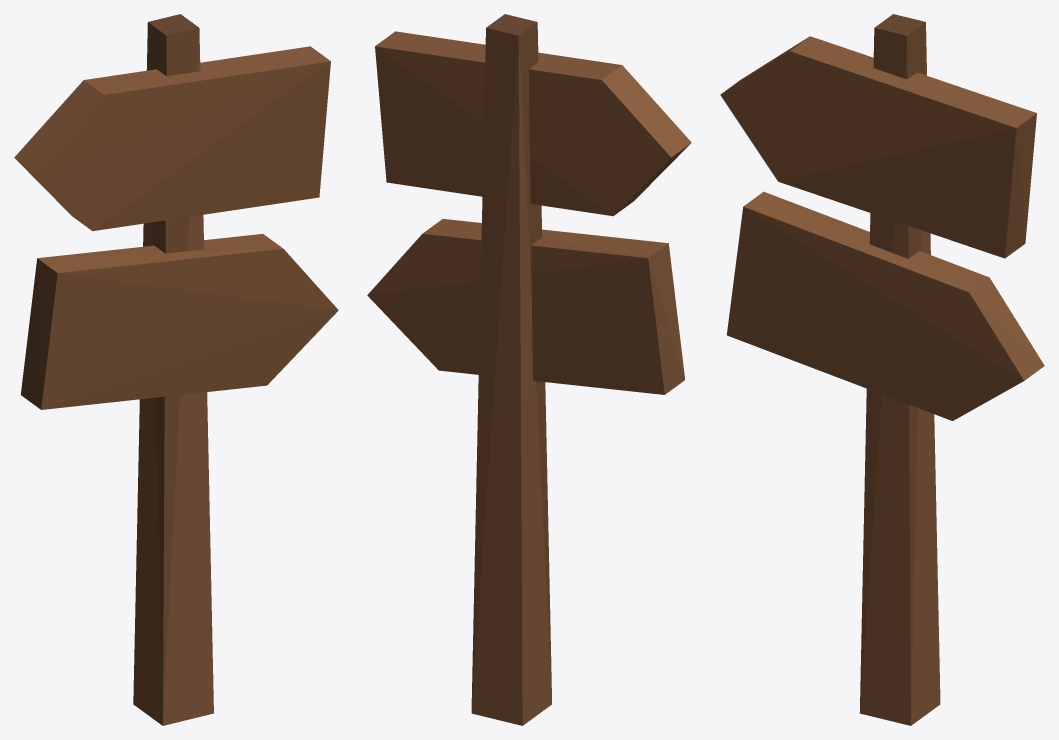
File: kenney_survival_signpost.glb
3 views of the same model, side by side, from view 1: azimuth 30°, elevation 25°; view 2: azimuth 150°, elevation 25°; view 3: azimuth 330°, elevation 25° (orthographic).
Parts seen in each view (by area): view 1: wood; view 2: wood; view 3: wood.
Part boxes in pixels (x1,y1,x2,y2): wood: [14, 14, 338, 725]; wood: [367, 14, 691, 725]; wood: [720, 14, 1044, 725].
Bounding box in the file's own units: 0.2141 × 0.4601 × 0.043.
